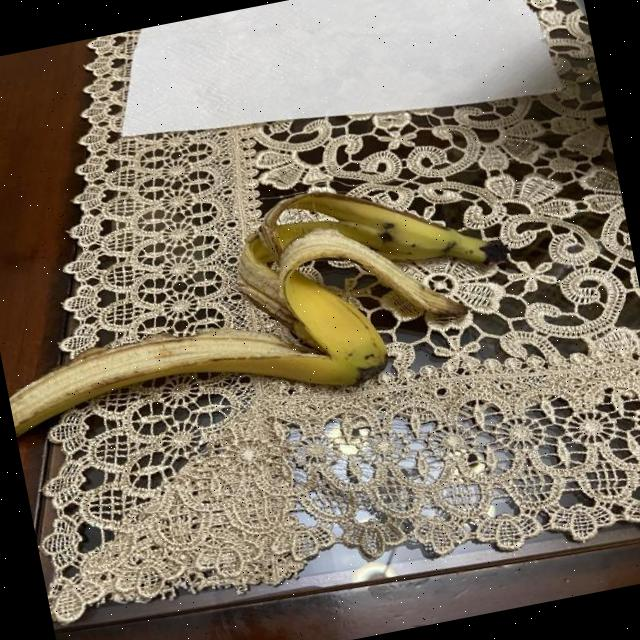banana-peel: (0, 158, 514, 451)
